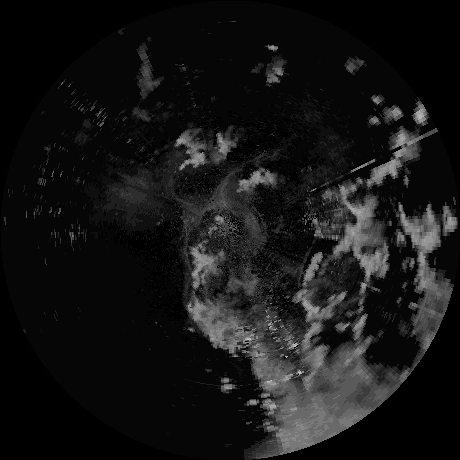frontgust: (223, 152, 262, 179), (298, 239, 315, 285)
